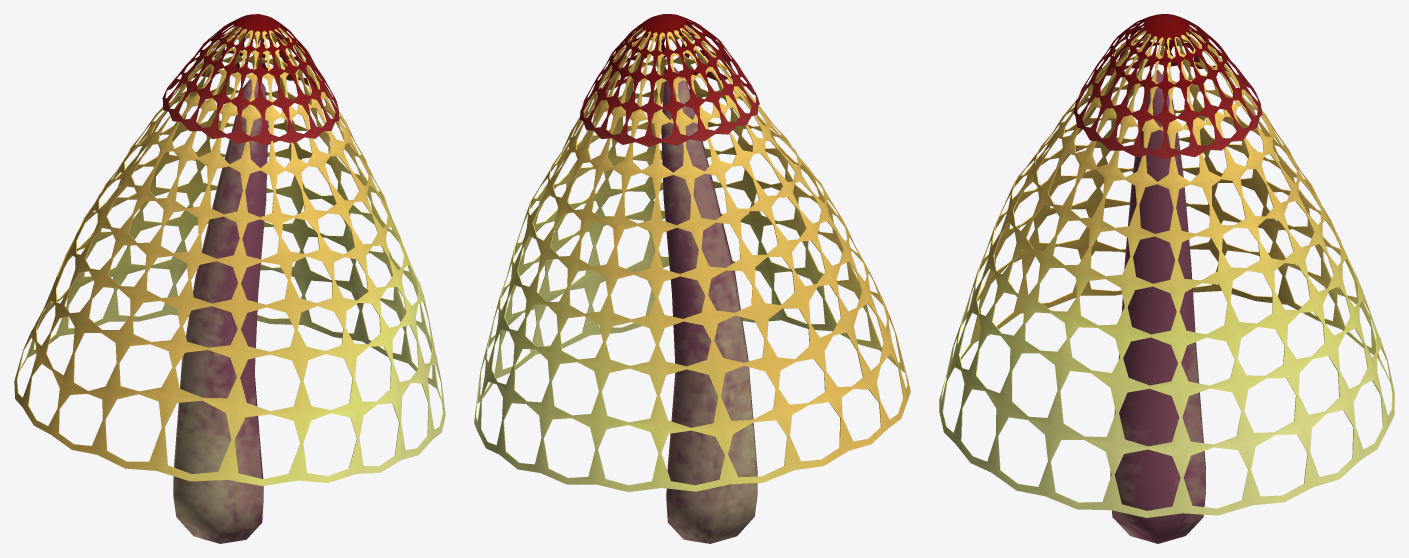
File: Cartoon Seaweed_13-1-12.fbx
3 renders of one model, left to right at view 1: azimuth 30°, elevation 25°; view 2: azimuth 150°, elevation 25°; view 3: azimuth 270°, elevation 25°, orthographic. The views are drawn at different scales.
Parts seen in each view (by area): view 1: Cartoon Seaweed_13.1.12; view 2: Cartoon Seaweed_13.1.12; view 3: Cartoon Seaweed_13.1.12.
Boxes of the visible parts, x1,y1,x2,y2 form: Cartoon Seaweed_13.1.12: [14, 14, 445, 543]; Cartoon Seaweed_13.1.12: [474, 14, 910, 543]; Cartoon Seaweed_13.1.12: [939, 14, 1394, 543].
Size of the model in its own units: 17.99 by 23.38 by 18.01.
Materials: 1 (1 with a texture image).
